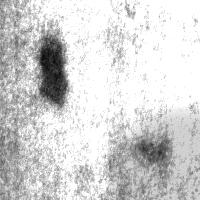patches: (105, 106, 200, 200), (38, 34, 69, 109)
